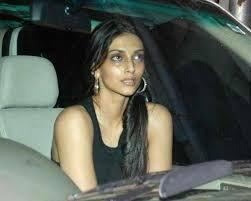Drunk: (108, 37, 143, 93)
